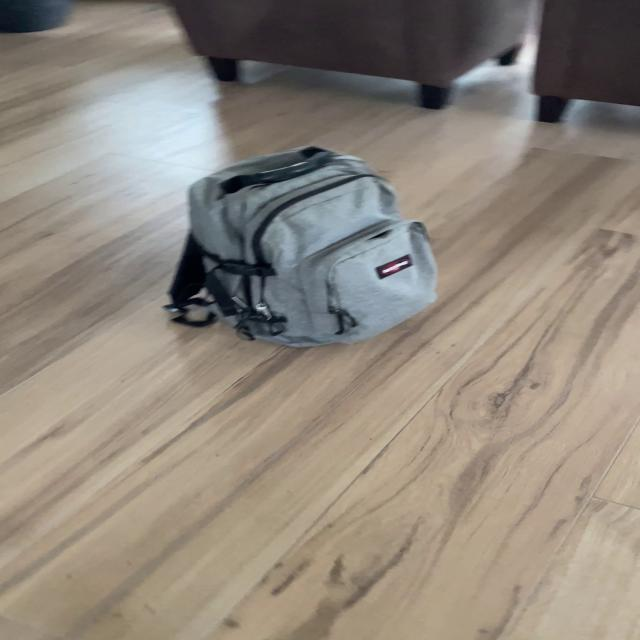backpack: (154, 139, 450, 355)
